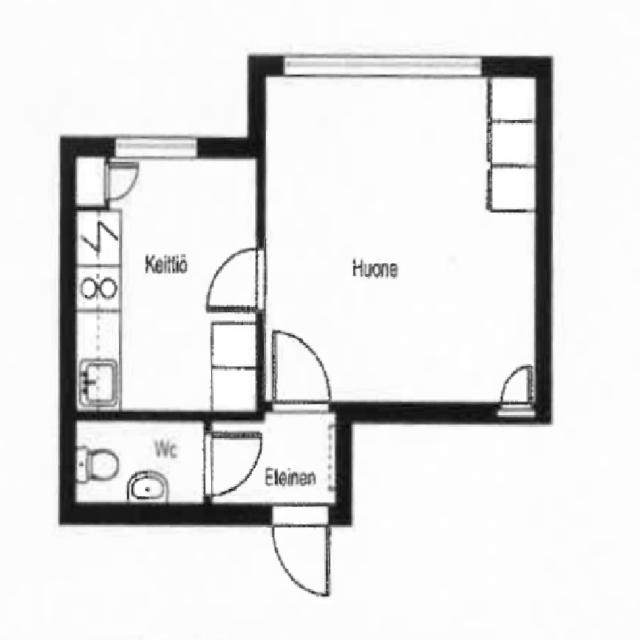door: (270, 508, 331, 604), (269, 326, 333, 409), (198, 423, 263, 502), (207, 238, 265, 311), (100, 154, 142, 207), (494, 362, 535, 415)
window: (108, 130, 205, 162)
zone: (260, 65, 536, 414), (69, 150, 264, 414), (68, 419, 207, 511)
